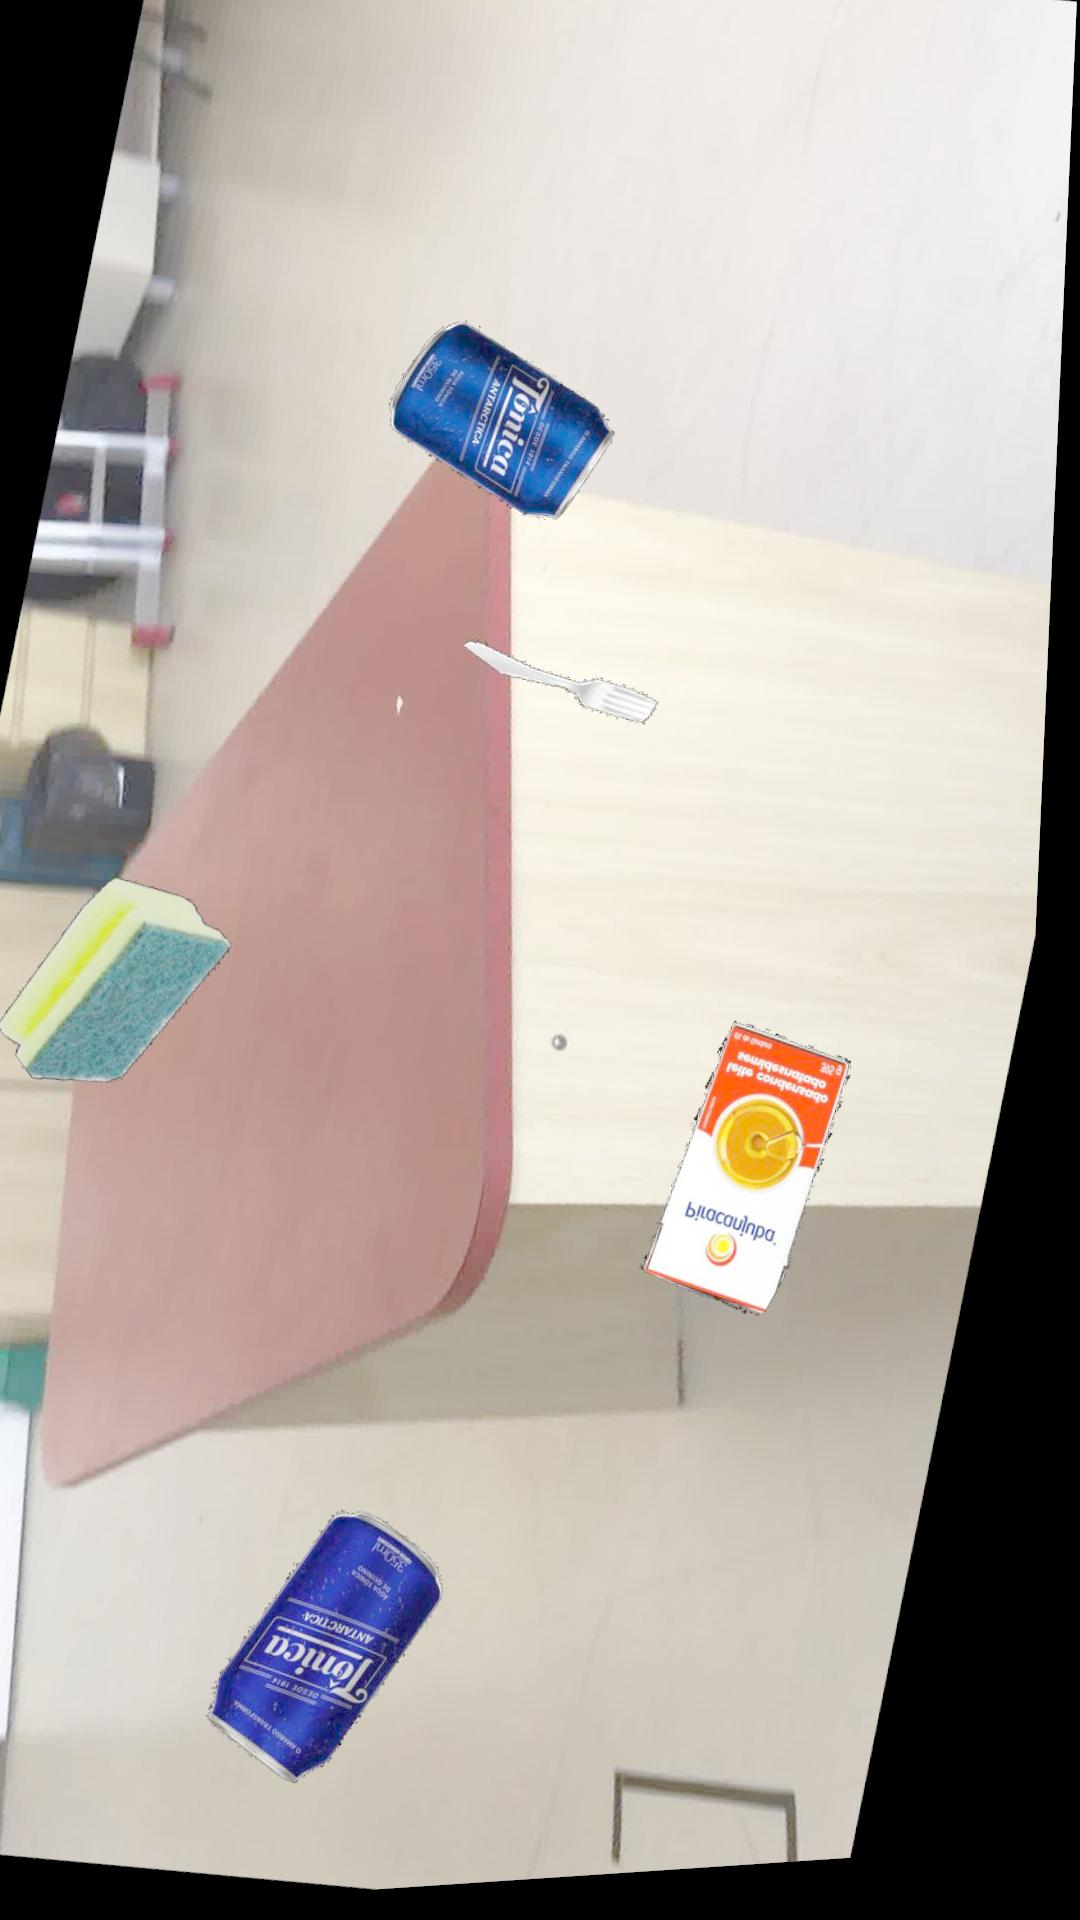fork: (472, 646, 666, 731)
sponge: (8, 877, 243, 1083)
tonic: (224, 1515, 460, 1787), (394, 327, 620, 526)
